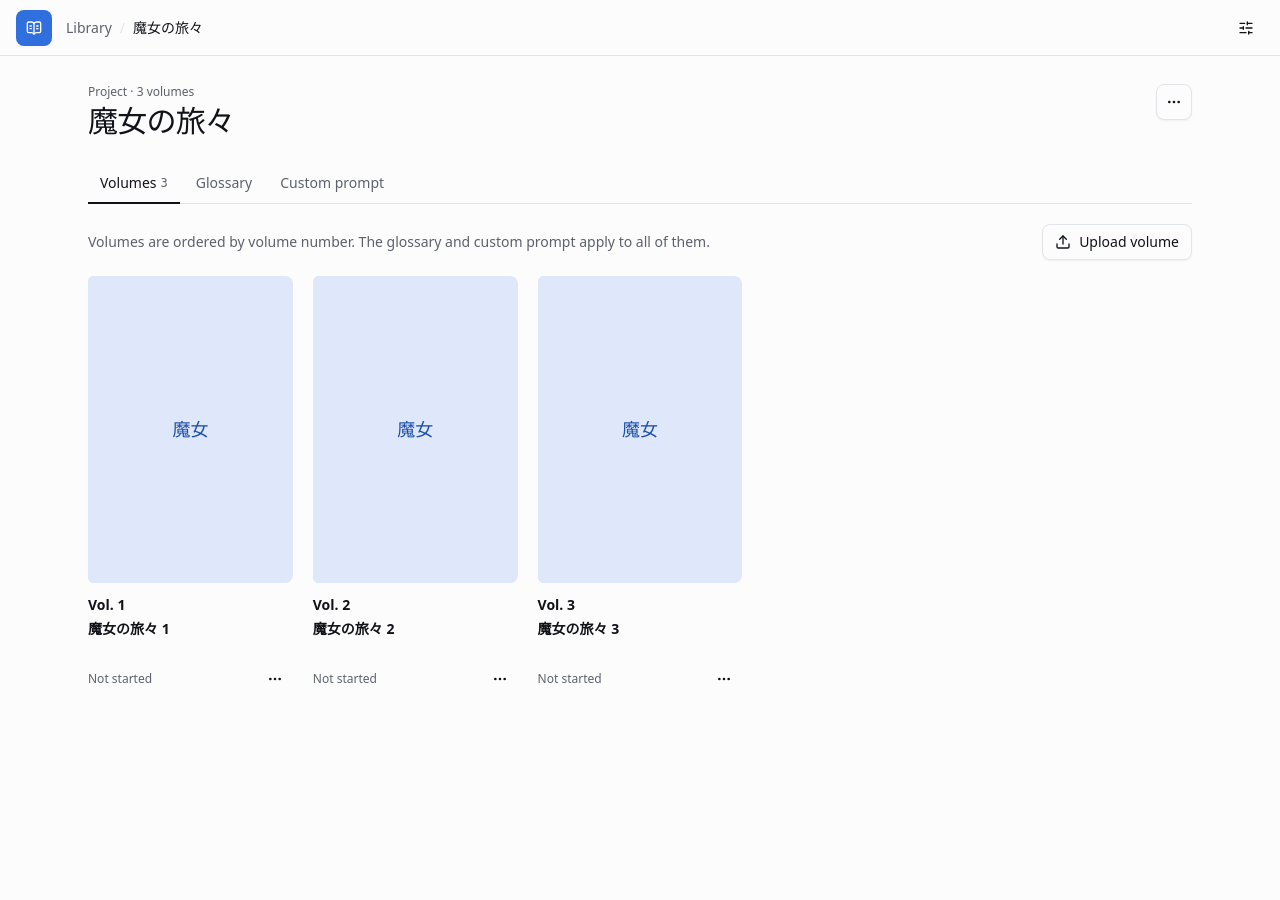
Move a book › moves a volume to the chosen project
Click the button named "Vol. 2 actions" at point(500, 679), box [482,661,518,697]
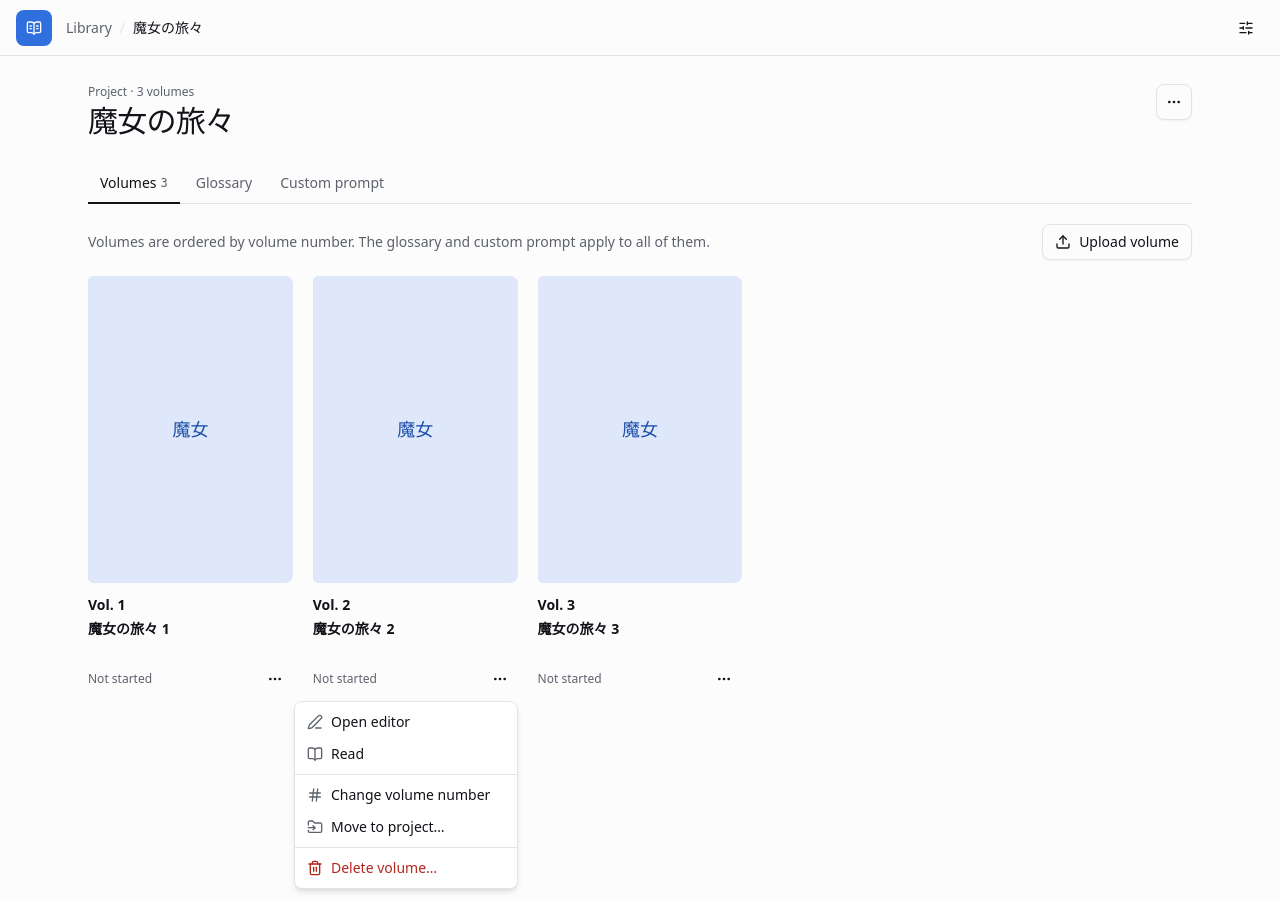
Click the menu item "Move to project…" at point(376, 826), box [307,817,445,836]
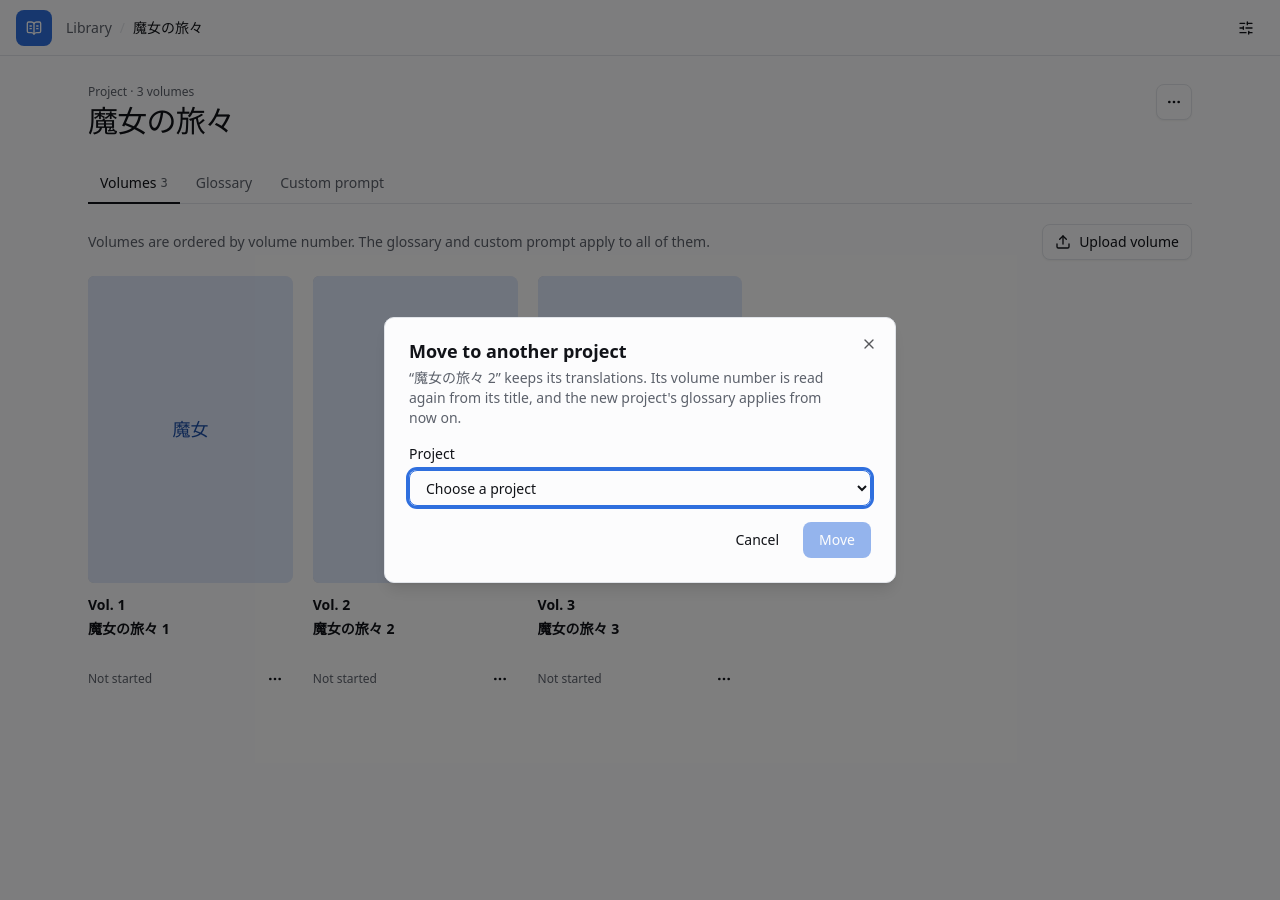
Now the button "Move" is disabled, box [803,522,871,558]
Select "Wandering Witch" in the dropdown labelled "Project" at point(640, 488), box [409,470,871,506]
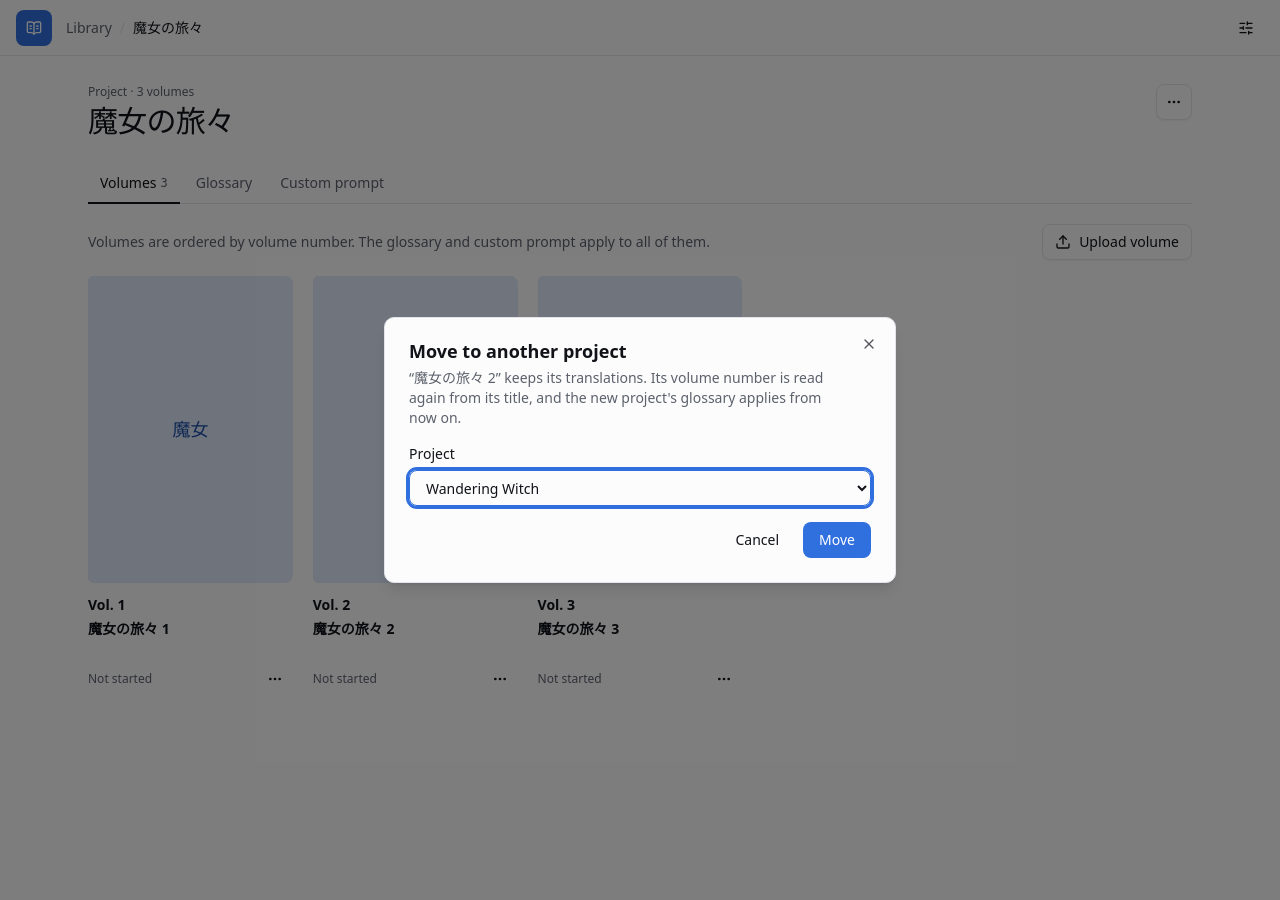
Click the button "Move" at point(837, 540), box [803,522,871,558]
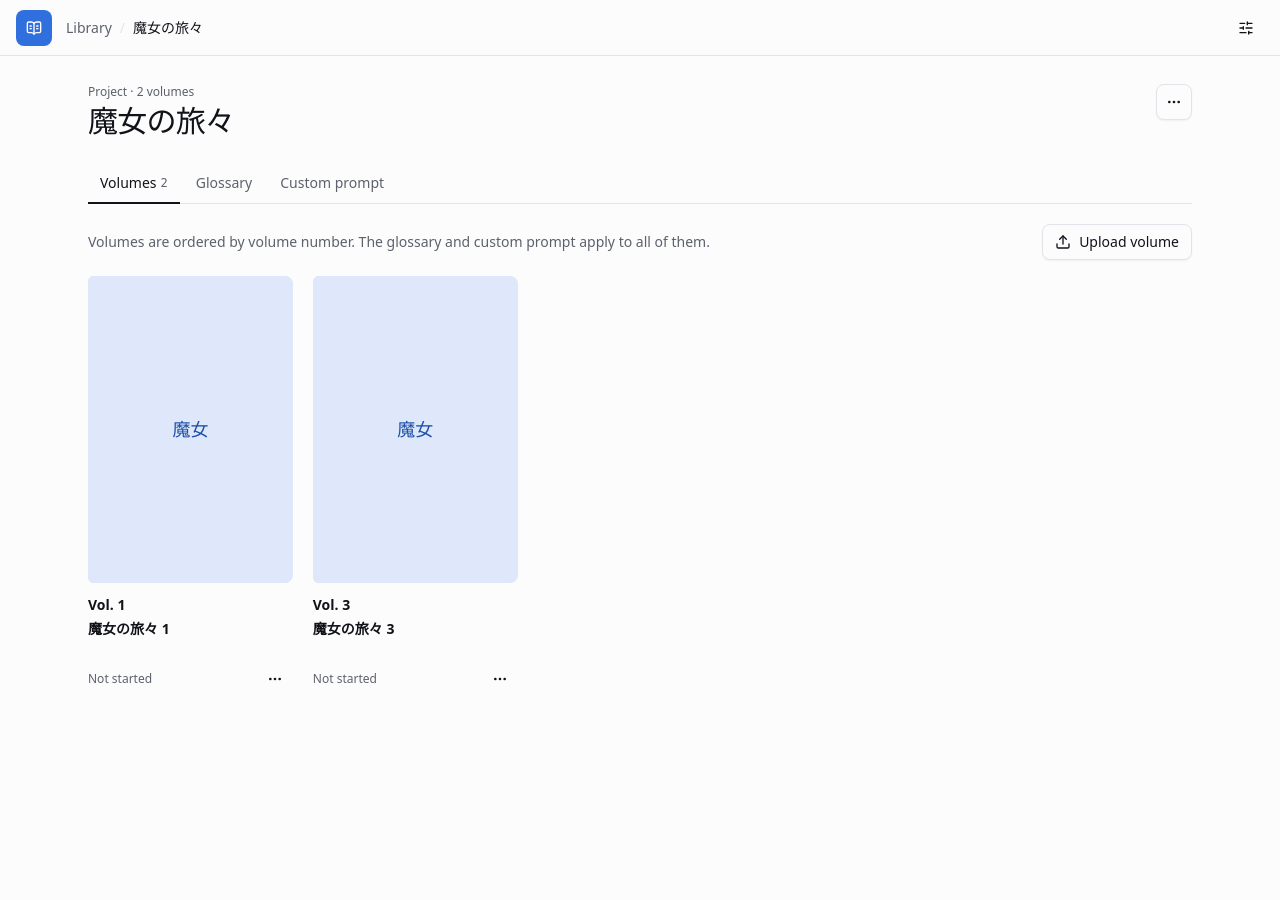
Now the dialog is gone
Now the text "魔女の旅々 2" is gone
